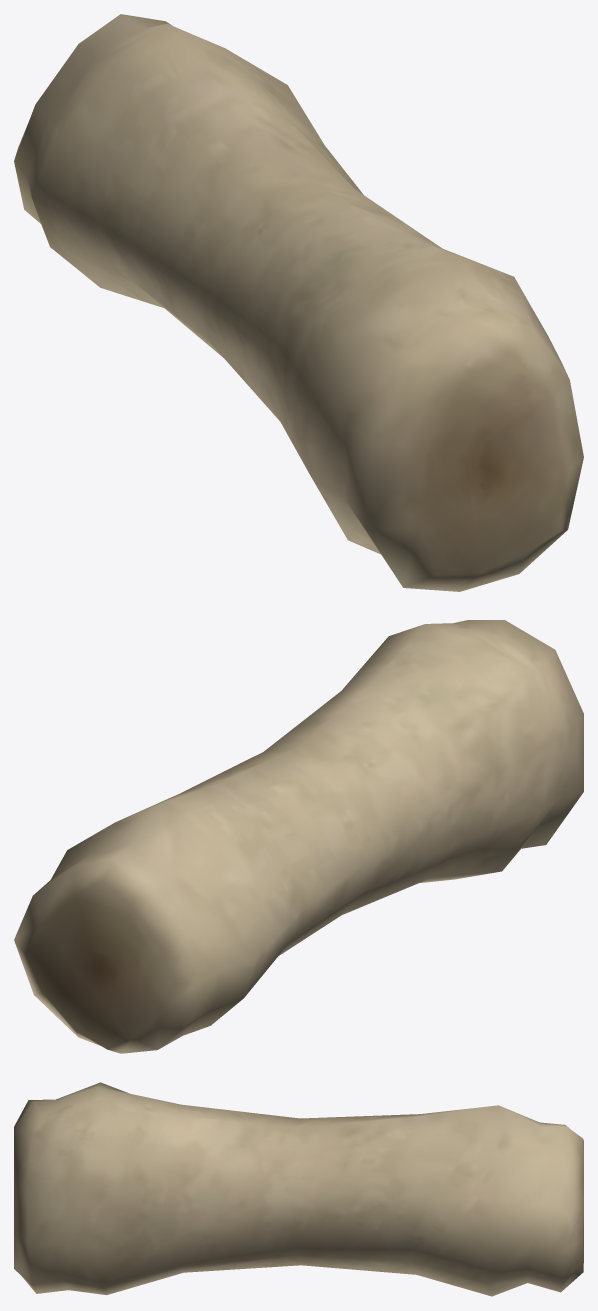
File: Caudal_Vertebrae11.glb
The picture shows the model from 3 angles, top to bottom: view 1: azimuth 30°, elevation 25°; view 2: azimuth 150°, elevation 25°; view 3: azimuth 270°, elevation 25°; orthographic projection. The views are drawn at different scales.
Parts seen in each view (by area): view 1: Caudal_Vertebrae_30:Group63860; view 2: Caudal_Vertebrae_30:Group63860; view 3: Caudal_Vertebrae_30:Group63860.
Boxes of the visible parts, <box> form: Caudal_Vertebrae_30:Group63860: <box>14,14,583,591</box>; Caudal_Vertebrae_30:Group63860: <box>14,620,583,1053</box>; Caudal_Vertebrae_30:Group63860: <box>14,1082,583,1296</box>.
Bounding box in the file's own units: 7.4 × 7.03 × 18.76.
Materials: 1 (1 with a texture image).
